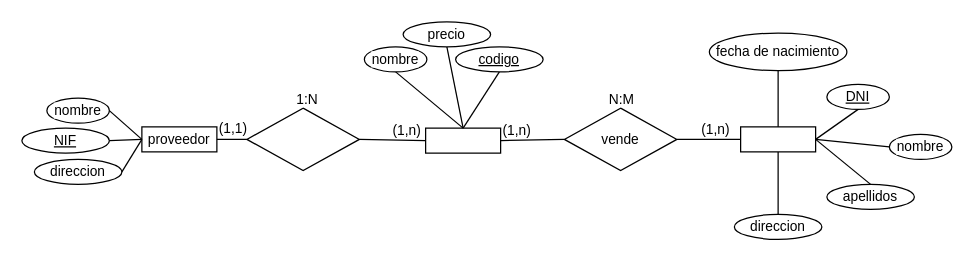
The diagram is 974 pixels wide and 261 high, and some of its shapes have lost their labels. The box of each missing label's shape, as (x1, y1, x2, y2) in pixels:
clientes: (739, 126, 816, 152)
productos: (424, 127, 501, 153)
suministra: (246, 107, 359, 171)
